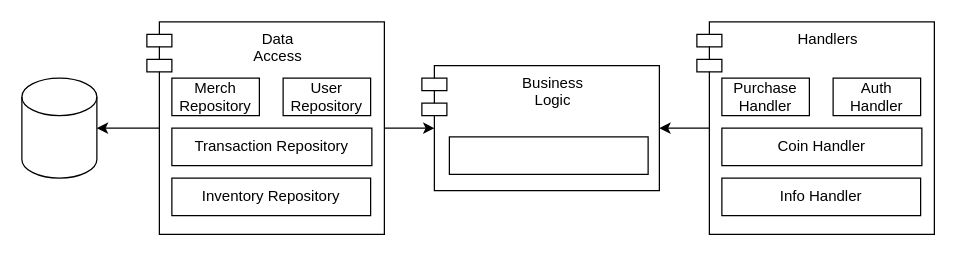
This 956x256 diagram has some shape labels left out. The centre of each missing label's shape, as x and y in pixels:
"Avito Shop Service" belongs at [548,155].
"DB" belongs at [59,127].
